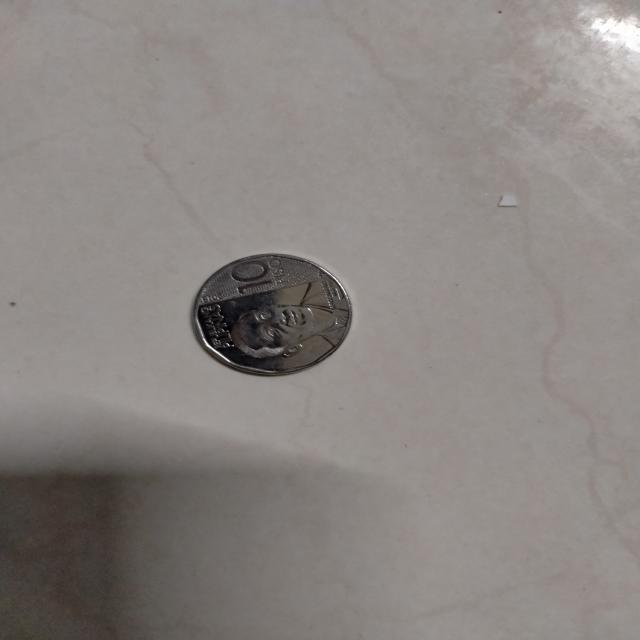10_New_Front: (205, 255, 341, 359)
